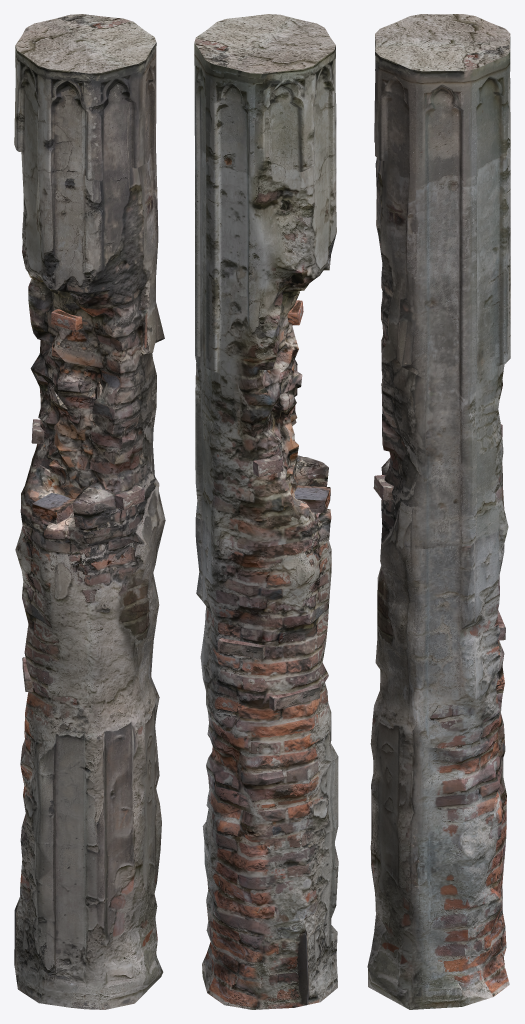
The model's file is SM_ChapelColumn_01_03.fbx.
3 views of the same model, side by side, from view 1: azimuth 30°, elevation 25°; view 2: azimuth 150°, elevation 25°; view 3: azimuth 270°, elevation 25° (orthographic).
Visible parts, largest first — view 1: sm_ChapelColumn_01_03_LOD0; view 2: sm_ChapelColumn_01_03_LOD0; view 3: sm_ChapelColumn_01_03_LOD0.
Part boxes in pixels (bbox=[...]): sm_ChapelColumn_01_03_LOD0: bbox=[14, 14, 165, 1009]; sm_ChapelColumn_01_03_LOD0: bbox=[194, 14, 338, 1009]; sm_ChapelColumn_01_03_LOD0: bbox=[367, 14, 510, 1009].
Size of the model in its own units: 77.72 by 76 by 563.
